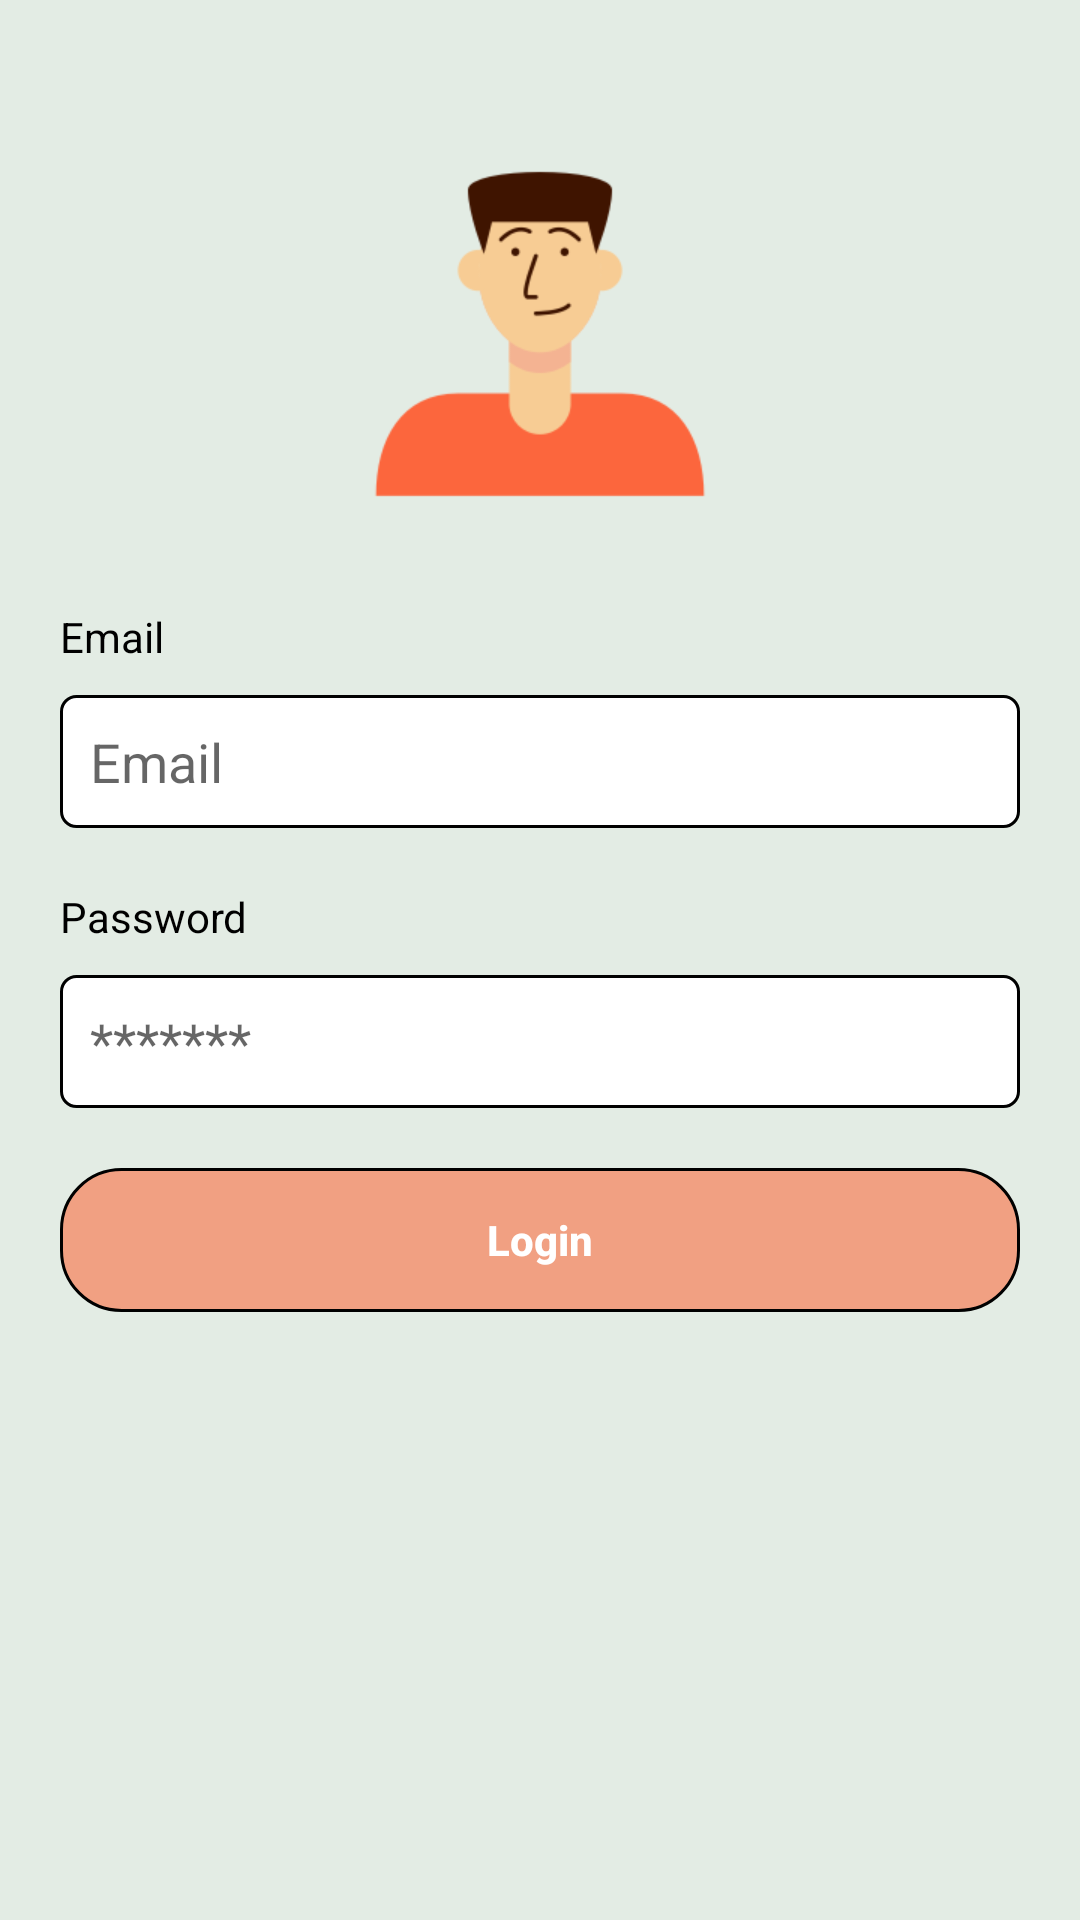

Named icons in this screenshot (1080*1920) and their bounding boxes, (x1, y1, x2, y2):
user: (375, 171, 705, 497)
